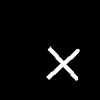single_crochet: (47, 47, 79, 80)
